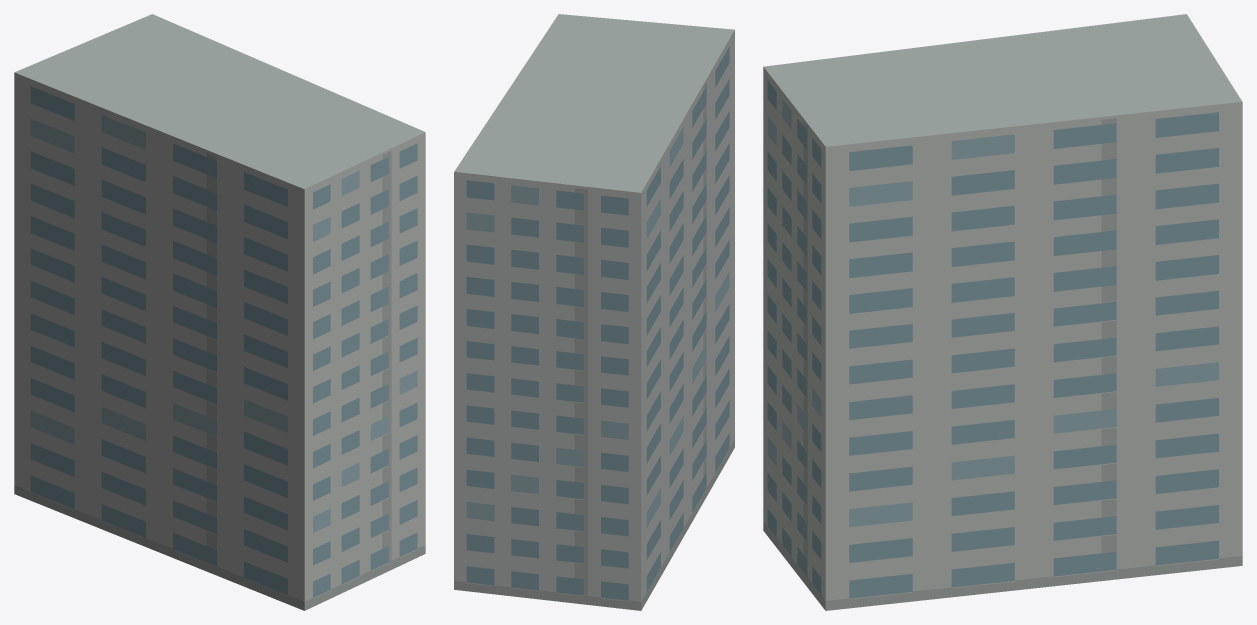
Rendered from residential-4901c7cd-84c8-4525-ba6d-f63e2c1ea56f.glb.
3 views of the same model, side by side, from view 1: azimuth 30°, elevation 25°; view 2: azimuth 150°, elevation 25°; view 3: azimuth 270°, elevation 25° (orthographic). The views are drawn at different scales.
Parts seen in each view (by area): view 1: residential-4901c7cd-84c8-4525-ba6d-f63e2c1ea56f.tmp; view 2: residential-4901c7cd-84c8-4525-ba6d-f63e2c1ea56f.tmp; view 3: residential-4901c7cd-84c8-4525-ba6d-f63e2c1ea56f.tmp.
Part boxes in pixels (<box>): residential-4901c7cd-84c8-4525-ba6d-f63e2c1ea56f.tmp: <box>14,14,425,610</box>; residential-4901c7cd-84c8-4525-ba6d-f63e2c1ea56f.tmp: <box>454,14,734,610</box>; residential-4901c7cd-84c8-4525-ba6d-f63e2c1ea56f.tmp: <box>763,14,1242,610</box>.
Size of the model in its own units: 24.57 by 40 by 37.44.
